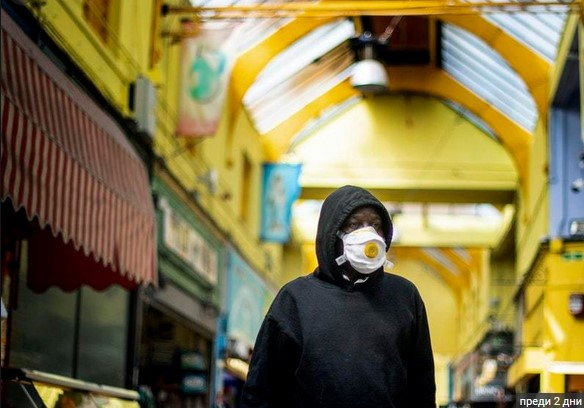face_with_mask: (318, 190, 393, 280)
